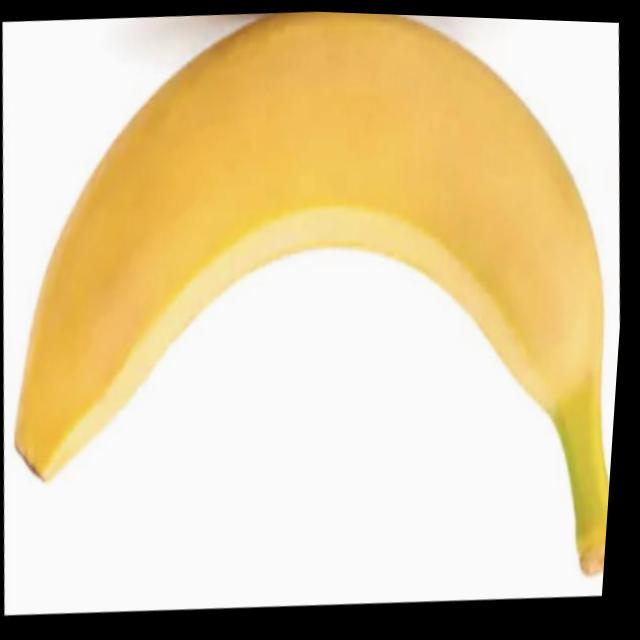Banana: (0, 0, 640, 614)
